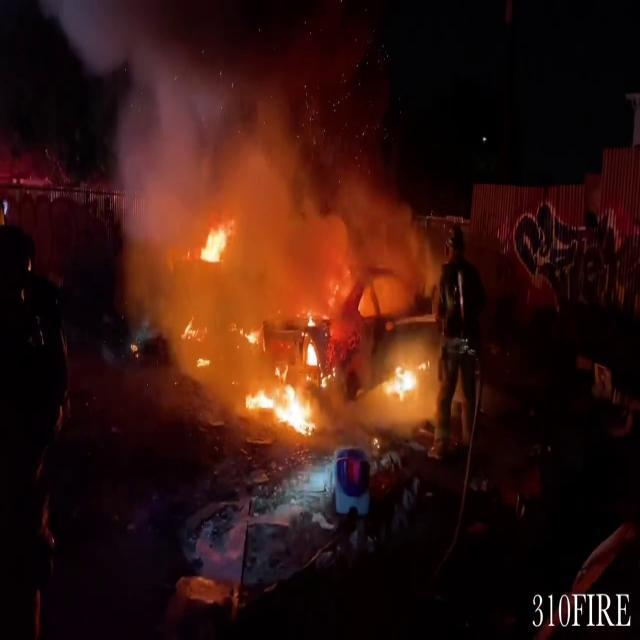Fire: (239, 364, 326, 439), (381, 356, 432, 408), (196, 216, 233, 270)
Smoke: (101, 28, 442, 303)
